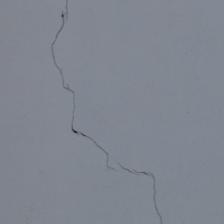Crack: (16, 28, 103, 139), (0, 21, 149, 83)
